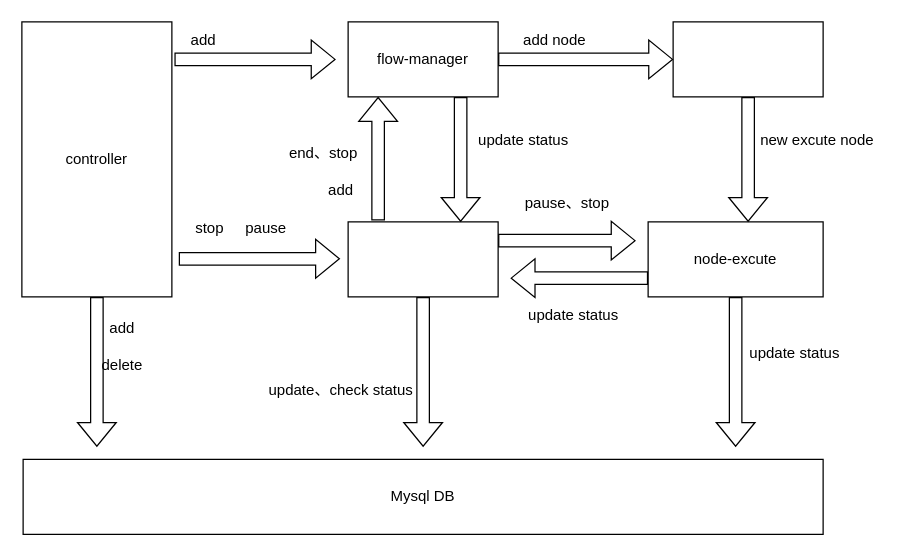
This 908x556 diagram has some shape labels left out. The box of each missing label's shape, as (x1, y1, x2, y2) in pixels:
node-controller: (672, 21, 823, 97)
task-async: (347, 221, 498, 297)
